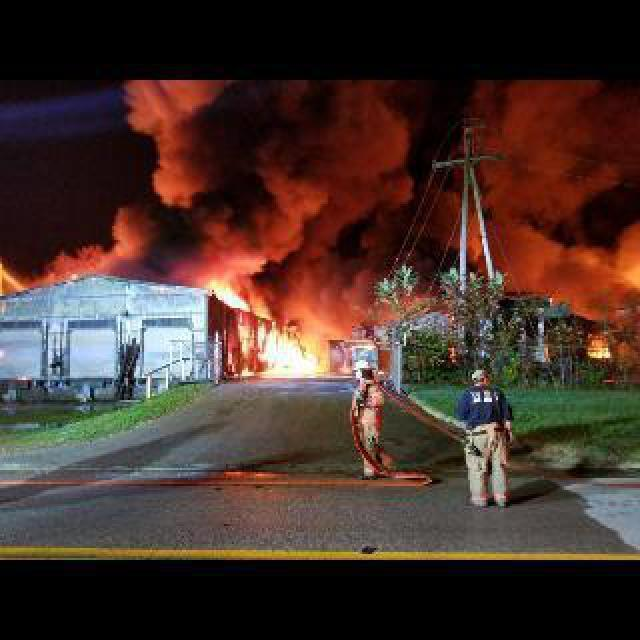Fire: (254, 298, 334, 378), (206, 282, 264, 314)
Smoke: (74, 80, 416, 280)
